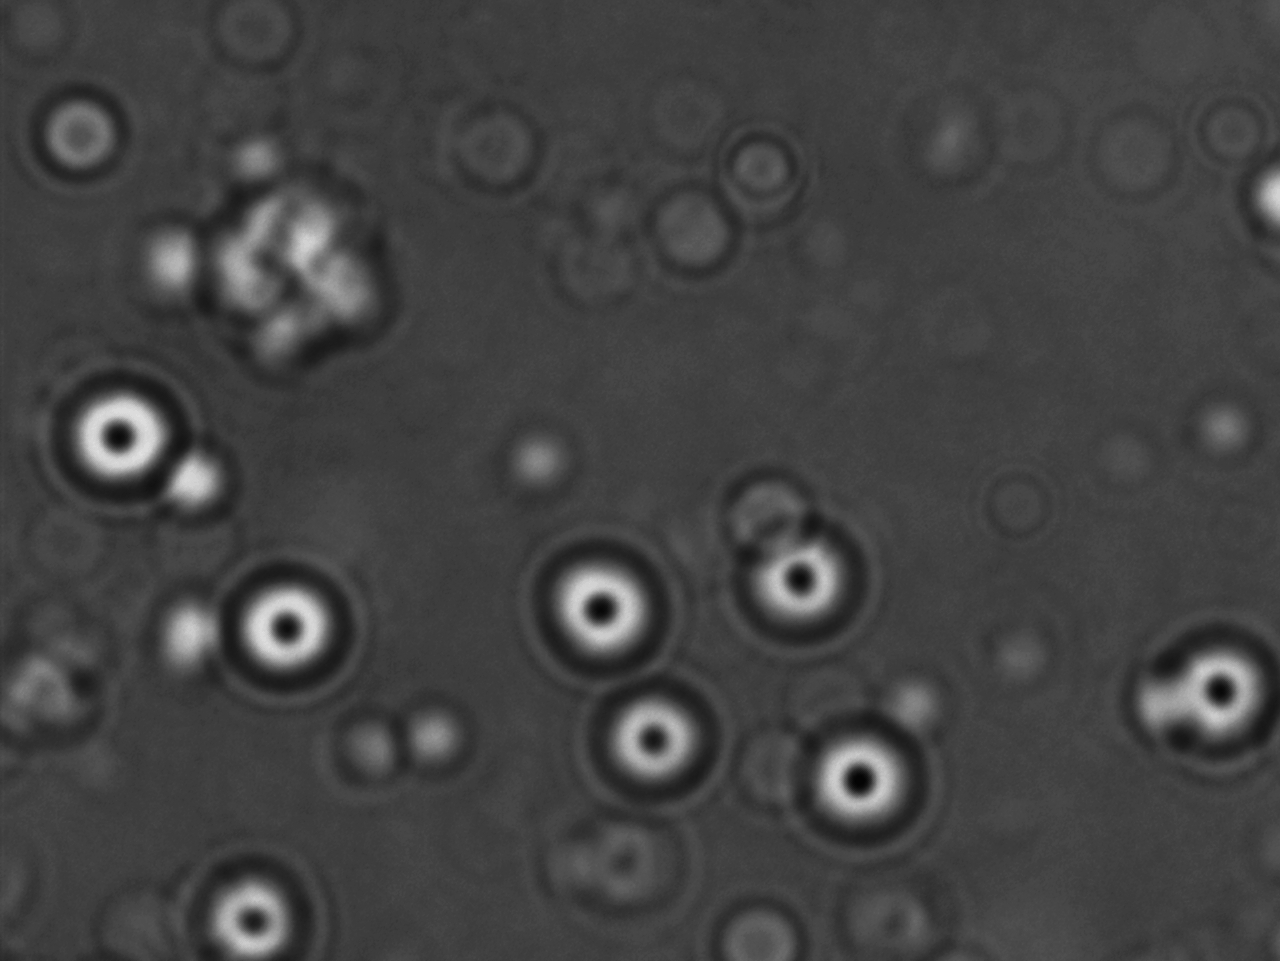depth:24: (207, 552, 359, 700), (729, 496, 877, 643), (47, 361, 199, 506), (526, 538, 675, 679), (1140, 623, 1276, 772), (791, 711, 937, 847), (585, 667, 726, 803), (189, 850, 316, 957)
